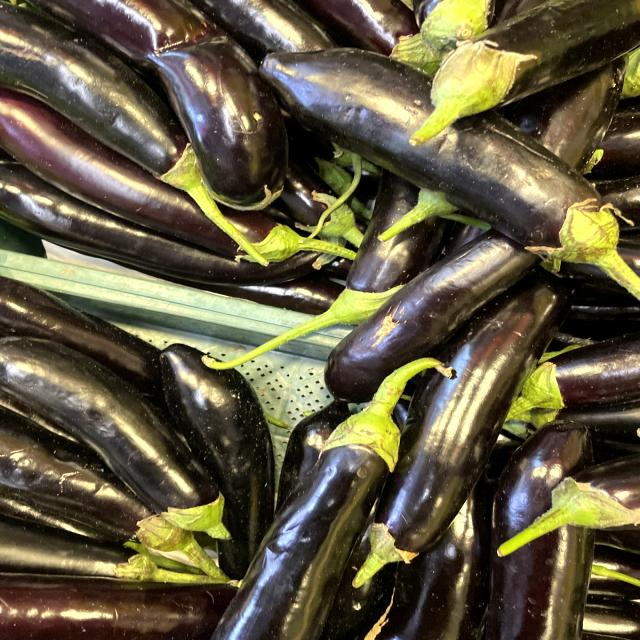eggplant: (256, 33, 640, 298), (204, 344, 468, 640), (0, 329, 245, 539)
